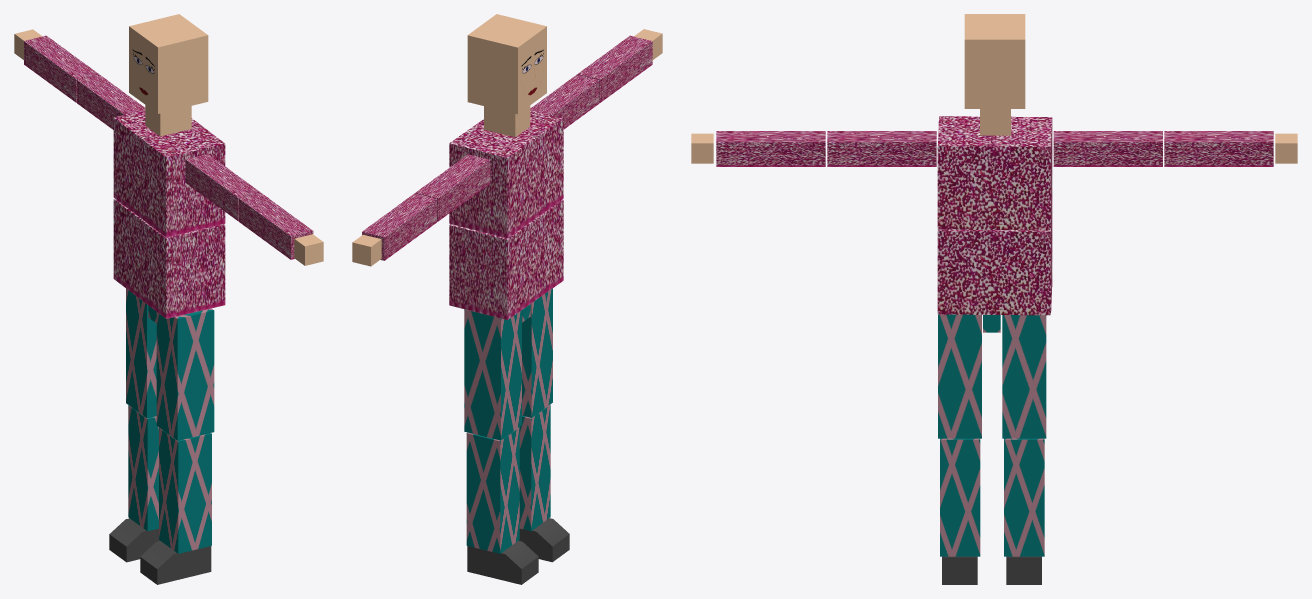
File: karakter1_3.fbx
3 renders of one model, left to right at view 1: azimuth 30°, elevation 25°; view 2: azimuth 150°, elevation 25°; view 3: azimuth 270°, elevation 25°, orthographic. The views are drawn at different scales.
Visible parts, largest first — view 1: pCube8, pCube30, pCube5, pCube6, pCube22, pCube28, pCube27, pCube23, pCube9, pCube25, pCube14, pCube24 (+3 smaller); view 2: pCube8, pCube30, pCube27, pCube6, pCube28, pCube22, pCube5, pCube25, pCube23, pCube24, pCube29, pCube9 (+4 smaller); view 3: pCube8, pCube30, pCube6, pCube27, pCube5, pCube28, pCube22, pCube9, pCube23, pCube24, pCube25, pCube14 (+2 smaller).
Part boxes in pixels (<box>): pCube8: <box>113,110,225,237</box>; pCube30: <box>113,198,225,318</box>; pCube5: <box>156,308,214,440</box>; pCube6: <box>129,14,208,113</box>; pCube22: <box>159,427,211,553</box>; pCube28: <box>128,405,158,531</box>; pCube27: <box>126,288,156,418</box>; pCube23: <box>238,192,313,259</box>; pCube9: <box>185,154,260,220</box>; pCube25: <box>24,35,98,102</box>; pCube14: <box>140,541,211,584</box>; pCube24: <box>77,74,145,129</box>; pCube8: <box>449,110,563,238</box>; pCube30: <box>449,200,563,319</box>; pCube27: <box>464,309,521,440</box>; pCube6: <box>467,14,546,114</box>; pCube28: <box>466,427,519,553</box>; pCube22: <box>519,404,550,531</box>; pCube5: <box>522,288,552,417</box>; pCube25: <box>362,193,436,260</box>; pCube23: <box>577,35,652,102</box>; pCube24: <box>415,154,490,221</box>; pCube29: <box>467,540,538,584</box>; pCube9: <box>530,74,599,129</box>; pCube8: <box>937,116,1052,230</box>; pCube30: <box>937,202,1052,315</box>; pCube6: <box>964,14,1025,108</box>; pCube27: <box>1002,315,1046,438</box>; pCube5: <box>938,314,981,438</box>; pCube28: <box>1004,438,1044,556</box>; pCube22: <box>940,438,980,556</box>; pCube9: <box>827,131,936,166</box>; pCube23: <box>716,131,825,166</box>; pCube24: <box>1053,131,1162,166</box>; pCube25: <box>1164,131,1273,166</box>; pCube14: <box>942,556,977,584</box>.
Bounding box in the file's own units: 4.33 × 32.13 × 32.12.
4 materials, 3 textured.
